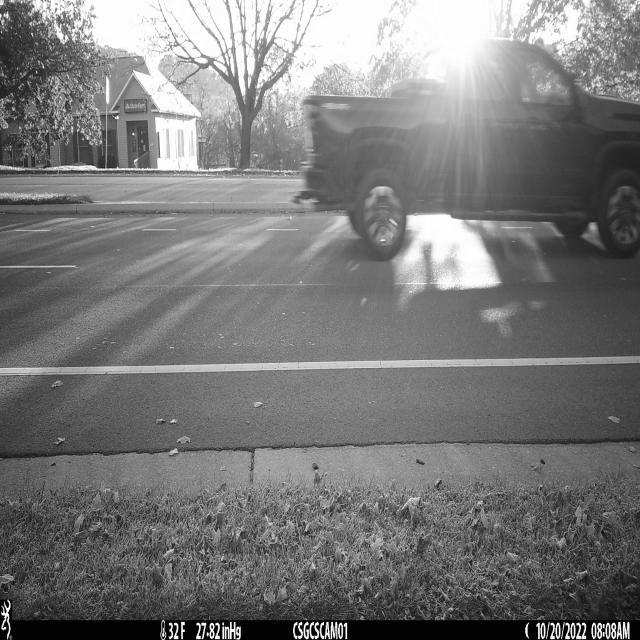Pickup: (295, 39, 640, 261)
